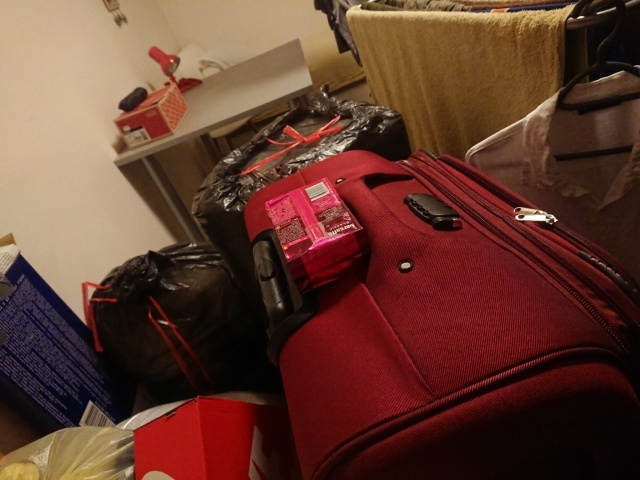Barcaffe Classic Original 225g: (261, 174, 373, 295)
